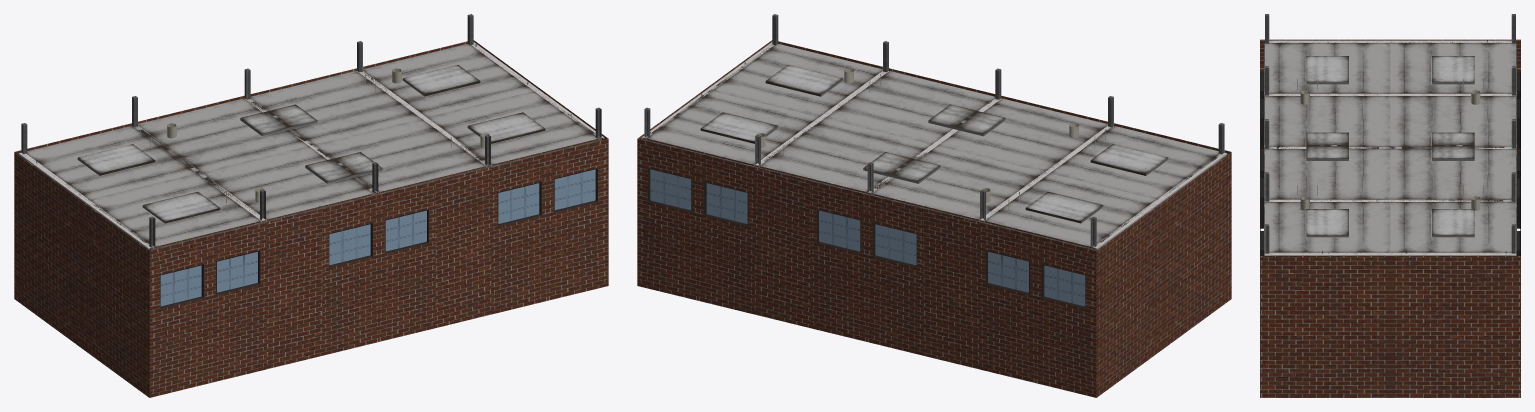
Rendered from Depot.dae.
3 views of the same model, side by side, from view 1: azimuth 30°, elevation 25°; view 2: azimuth 150°, elevation 25°; view 3: azimuth 270°, elevation 25° (orthographic). The views are drawn at different scales.
Visible parts, largest first — view 1: WALLS, ROOF, WINDOW, PILLERS, FANS; view 2: WALLS, ROOF, WINDOW, PILLERS, FANS; view 3: ROOF, WALLS, PILLERS, FANS.
Part boxes in pixels (left/top/right/bottom): WALLS: left=14, top=40, right=608, bottom=397; ROOF: left=18, top=42, right=604, bottom=249; WINDOW: left=160, top=169, right=595, bottom=306; PILLERS: left=21, top=14, right=601, bottom=250; FANS: left=140, top=68, right=489, bottom=210; WALLS: left=637, top=40, right=1231, bottom=397; ROOF: left=641, top=42, right=1227, bottom=249; WINDOW: left=650, top=169, right=1085, bottom=306; PILLERS: left=644, top=14, right=1224, bottom=250; FANS: left=756, top=68, right=1105, bottom=210; ROOF: left=1264, top=40, right=1516, bottom=255; WALLS: left=1260, top=39, right=1520, bottom=397; PILLERS: left=1265, top=14, right=1515, bottom=253; FANS: left=1297, top=79, right=1483, bottom=210.
Bounding box in the file's own units: 5100 × 2600 × 1875.
Materials: 13 (13 with a texture image).
